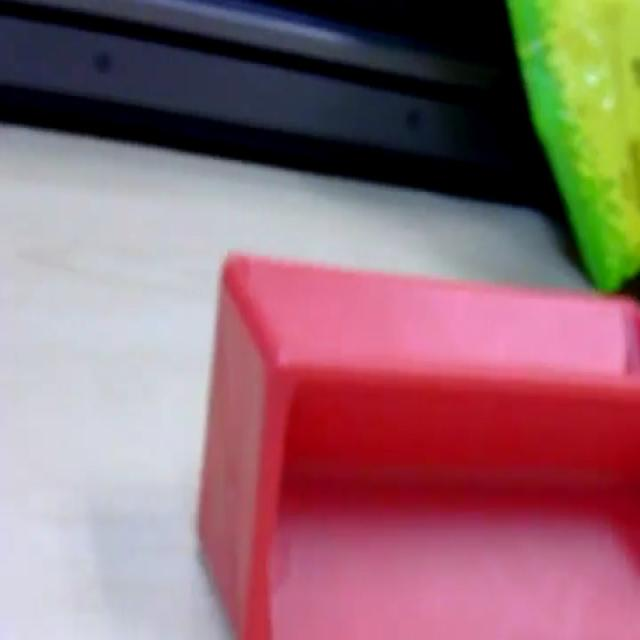red_block: (196, 247, 638, 636)
